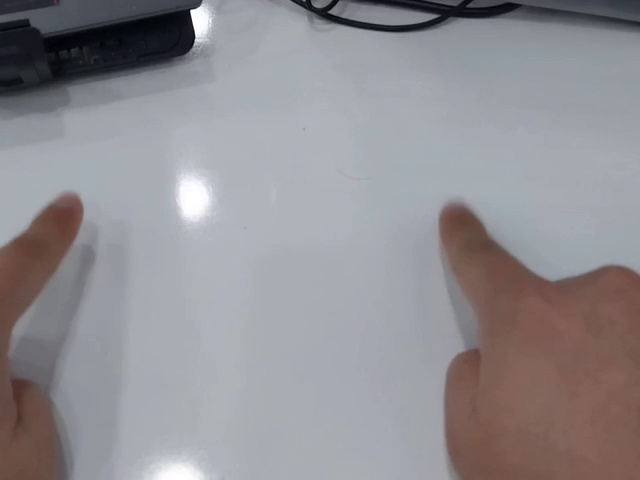fingers: (42, 190, 86, 238), (438, 202, 479, 246)
